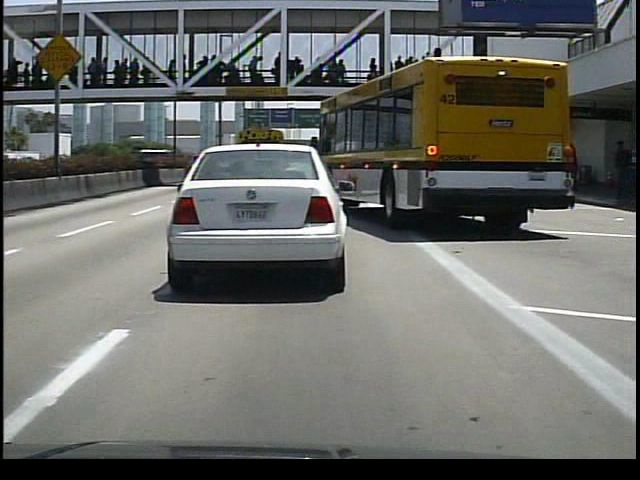person: (605, 140, 638, 206)
